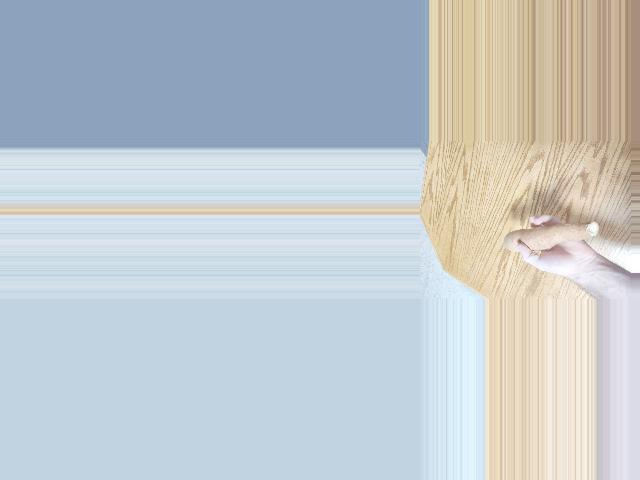sweet_potato: (505, 224, 596, 252)
